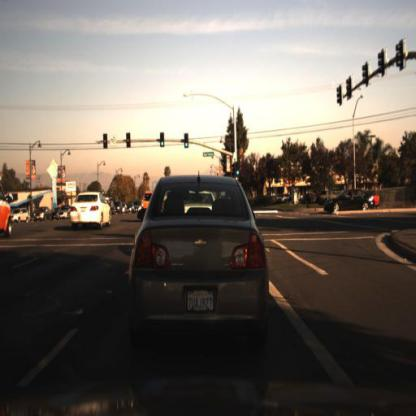car: (112, 166, 292, 375), (60, 180, 117, 238), (322, 184, 360, 224), (10, 187, 45, 227), (1, 168, 17, 252), (1, 182, 20, 239), (374, 181, 387, 212), (56, 203, 72, 224)
trafficLight: (124, 134, 132, 160), (103, 130, 111, 151), (160, 130, 168, 149)
trafficLight-Green: (179, 133, 193, 164), (234, 161, 242, 186), (157, 135, 165, 158)
trafficLight-Red: (183, 133, 190, 153)
trafficLight-RedLeft: (100, 132, 110, 158)
